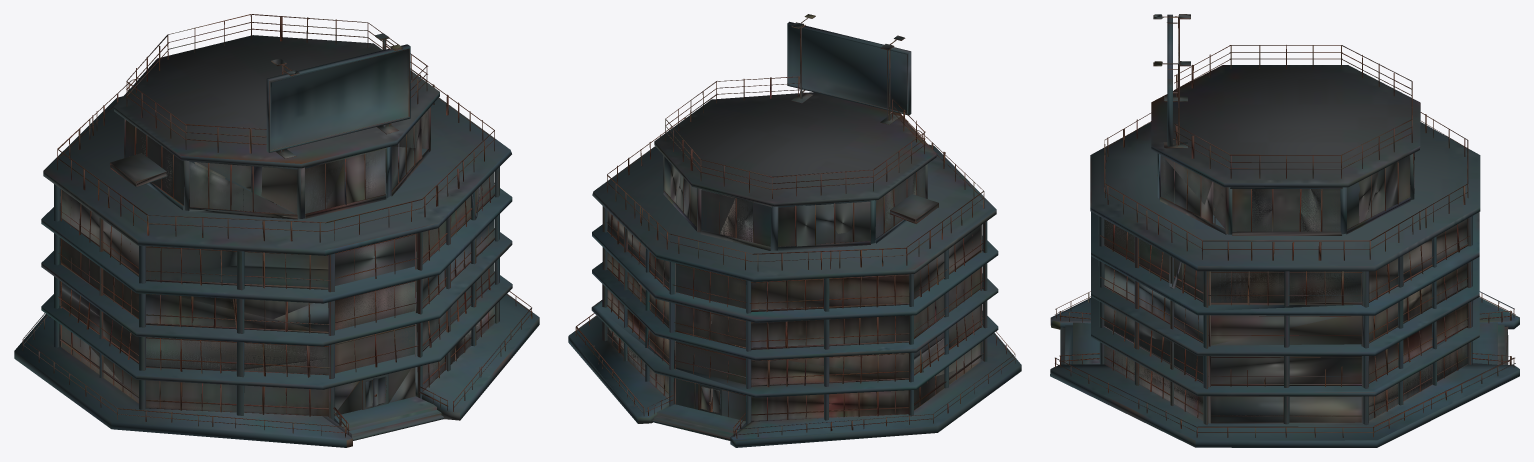
The picture shows the model from 3 angles, left to right: view 1: azimuth 30°, elevation 25°; view 2: azimuth 150°, elevation 25°; view 3: azimuth 270°, elevation 25°; orthographic projection. The views are drawn at different scales.
Bounding box in the file's own units: 0.9311 × 0.6919 × 0.9482.
1 material, 1 textured.
